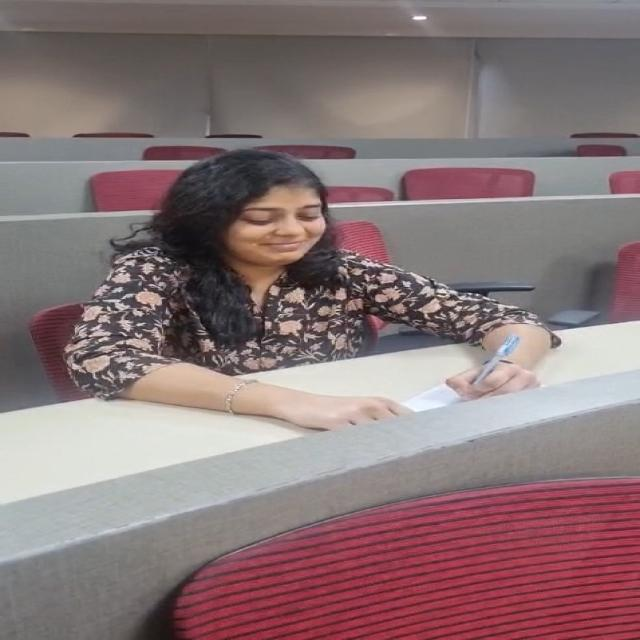non-cheating: (52, 121, 506, 461)
